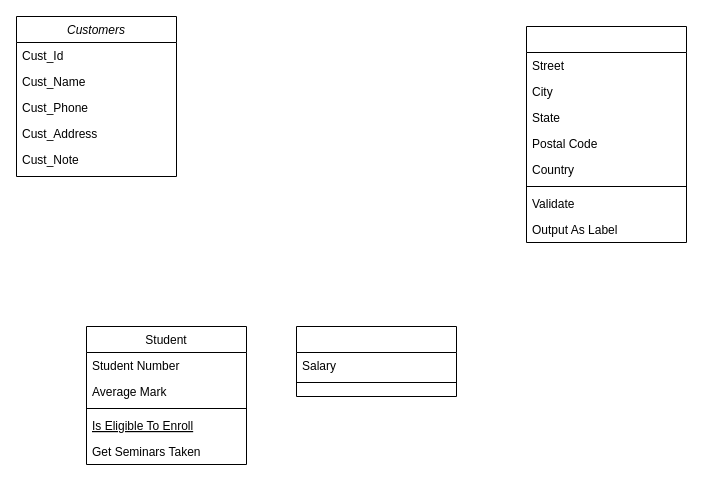
Some shapes in this 703 by 481 pixel diagram are drawn without their labels. The box of each missing label's shape, as (x1, y1, x2, y2) in pixels:
Address: (526, 26, 686, 242)
Professor: (296, 326, 456, 396)
